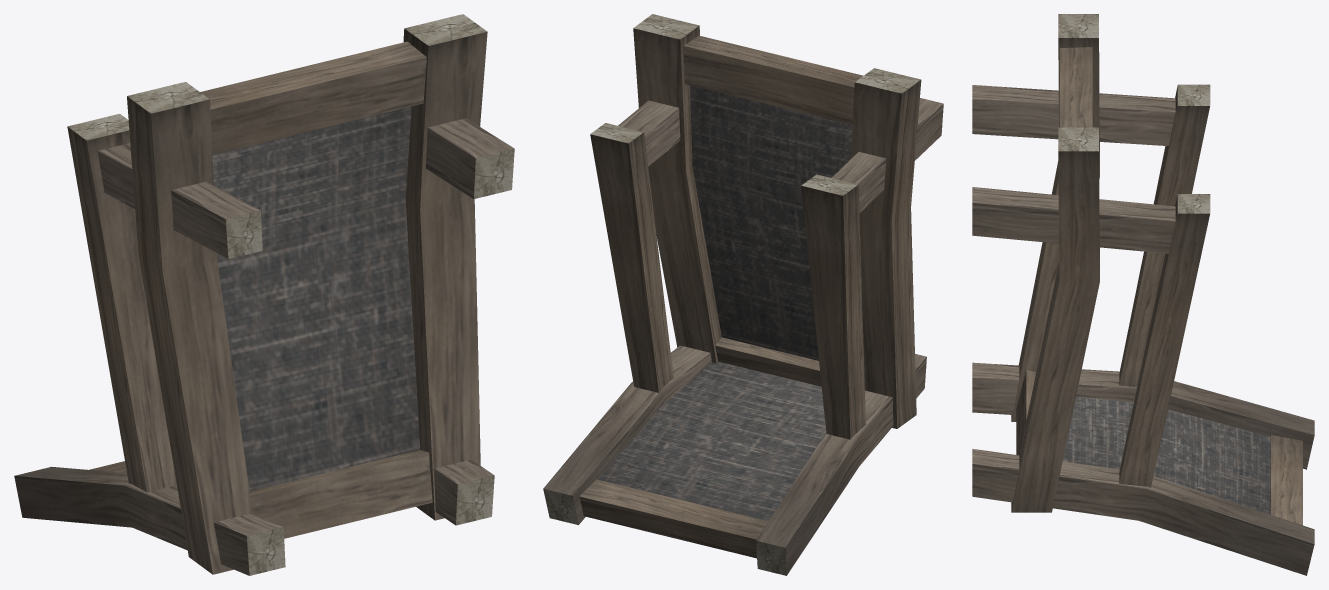
The model's file is LongChair_Type_01_C.fbx.
The picture shows the model from 3 angles, left to right: view 1: azimuth 30°, elevation 25°; view 2: azimuth 150°, elevation 25°; view 3: azimuth 270°, elevation 25°; orthographic projection. The views are drawn at different scales.
Parts seen in each view (by area): view 1: LongChair_Type_01_C; view 2: LongChair_Type_01_C; view 3: LongChair_Type_01_C.
Part boxes in pixels (box(x1,y1,x2,y2)): LongChair_Type_01_C: box(14, 14, 514, 575); LongChair_Type_01_C: box(543, 14, 943, 575); LongChair_Type_01_C: box(972, 14, 1314, 575).
Size of the model in its own units: 1.12 by 1.65 by 1.18.
